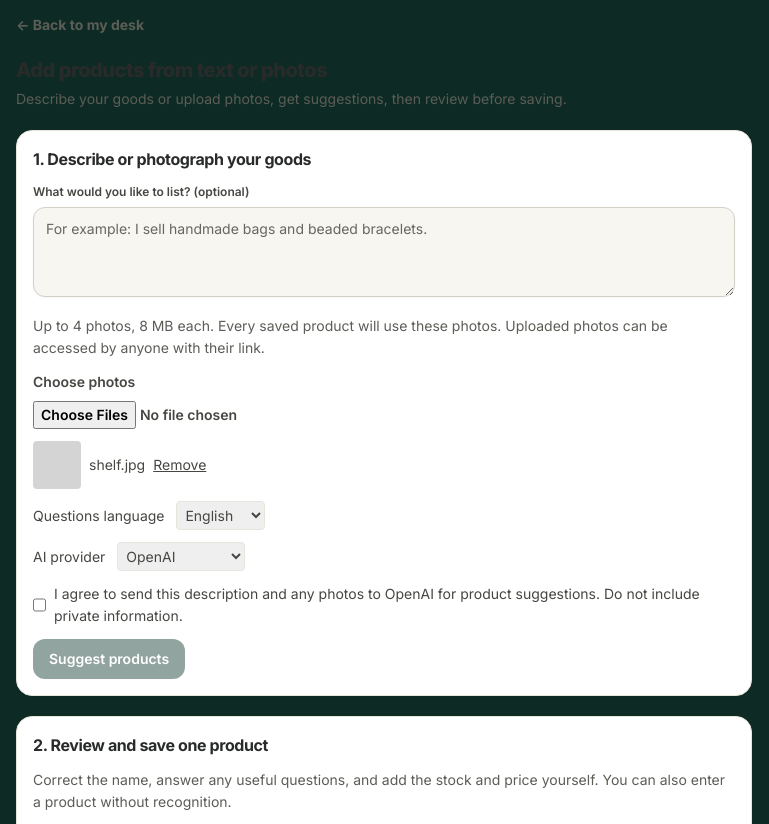
Test: photo product entry › asks for consent, reviews multiple suggestions and saves answers with each real offering
Earlier steps of the test are not shown.
Later steps or results of the test are not shown.
Expected: the list item "shelf.jpg" is shown, x1=89 y1=456 x2=145 y2=473
Expected: the button "Suggest products" is disabled, x1=33 y1=639 x2=185 y2=679
Click the checkbox at (40, 605), box x1=33 y1=583 x2=46 y2=627
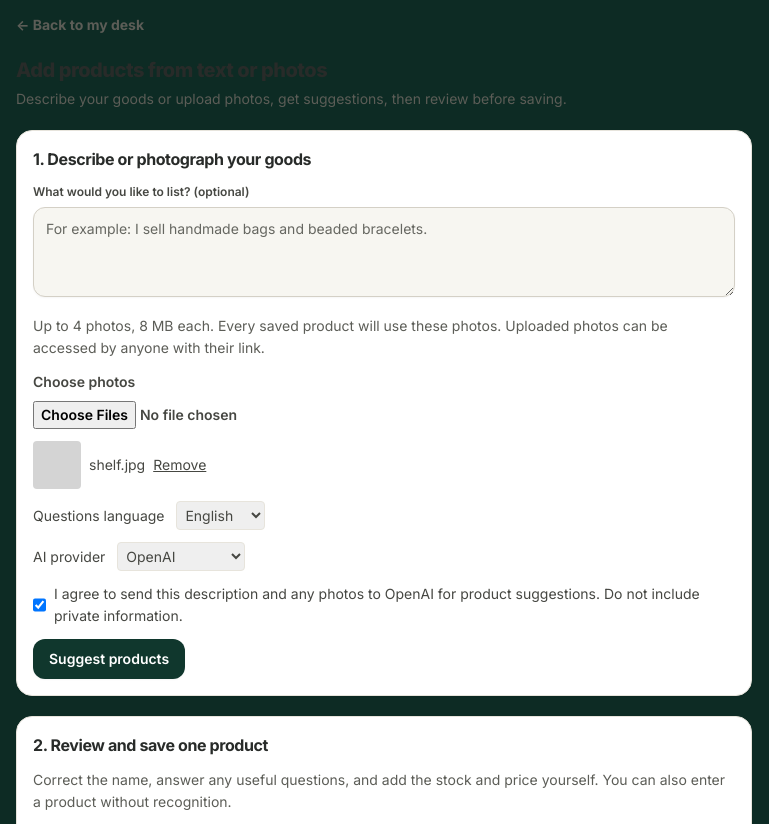
Click the button "Suggest products" at (109, 659), box x1=33 y1=639 x2=185 y2=679
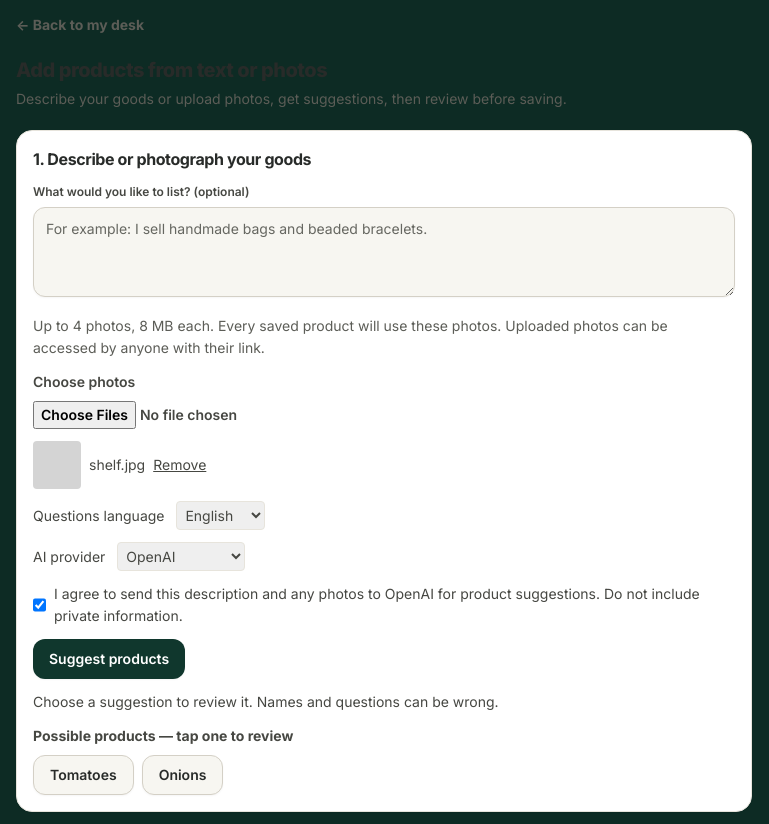
Click the button "Tomatoes" at (83, 775), box x1=33 y1=755 x2=134 y2=795
(page scrolled)
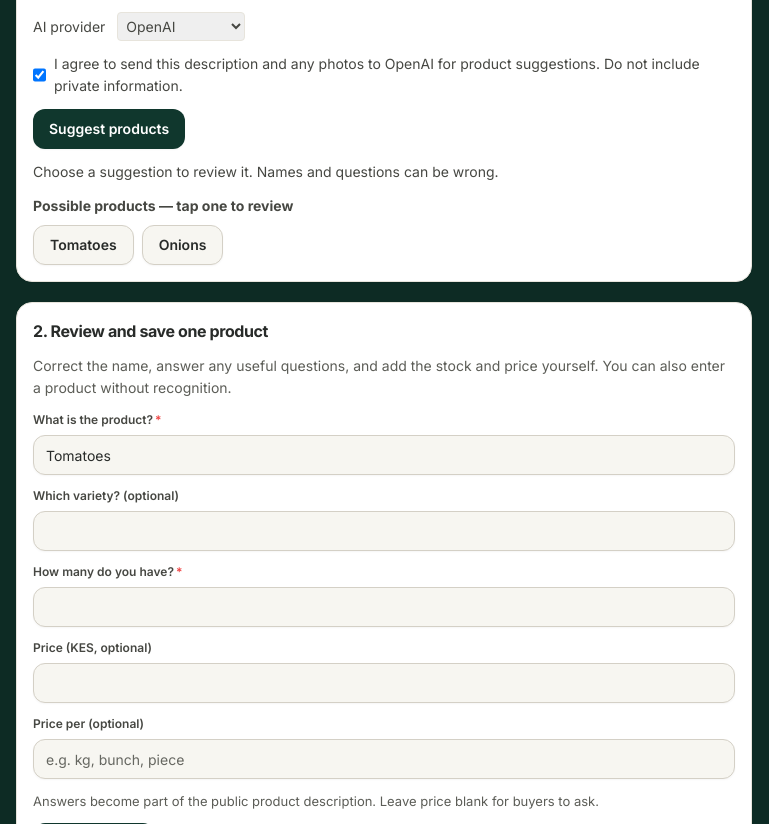
Expected: the field labelled "What is the product?*" holds "Tomatoes", x1=33 y1=435 x2=735 y2=475
